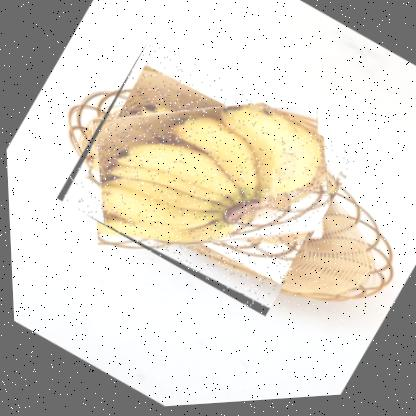banana: (48, 28, 362, 331)
